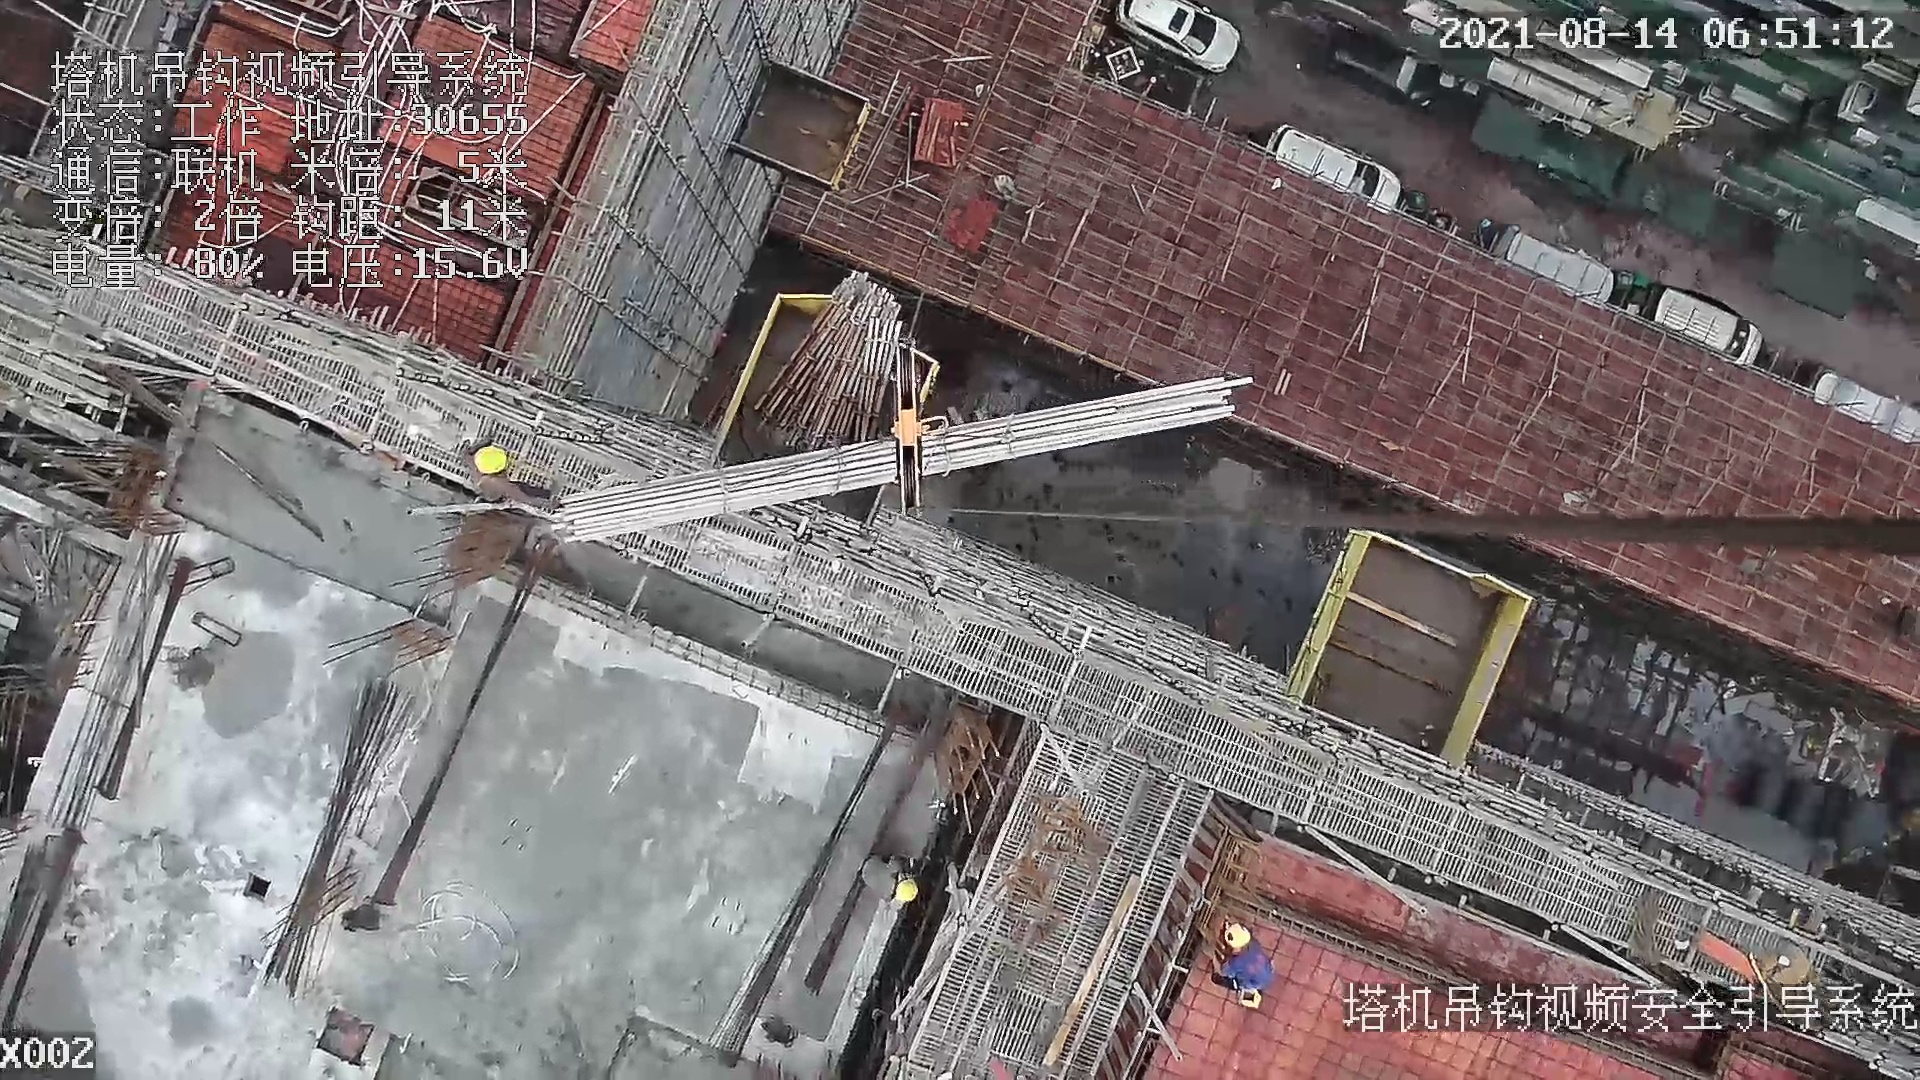helmet: (475, 441, 512, 477), (1217, 922, 1254, 950), (888, 873, 920, 899)
hook: (878, 344, 936, 521)
person: (458, 440, 563, 517), (1203, 914, 1274, 1003), (855, 849, 923, 905)
rebar: (550, 377, 1244, 543), (263, 676, 419, 992)
scaffold: (756, 269, 894, 447)
